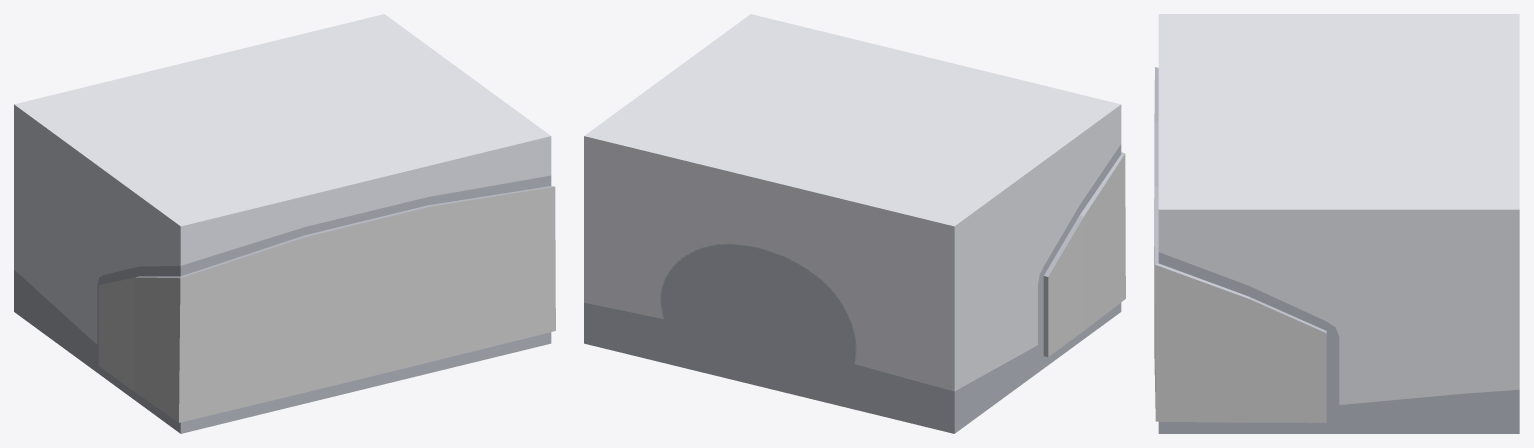
The model's file is MS_LvlBoss.fbx.
3 renders of one model, left to right at view 1: azimuth 30°, elevation 25°; view 2: azimuth 150°, elevation 25°; view 3: azimuth 270°, elevation 25°, orthographic. The views are drawn at different scales.
Visible parts, largest first — view 1: Cube; view 2: Cube; view 3: Cube.
Part boxes in pixels (x1,y1,x2,y2): Cube: (14, 14, 555, 433); Cube: (584, 14, 1125, 433); Cube: (1154, 14, 1519, 433).
Bounding box in the file's own units: 7479 × 3908 × 5762.
